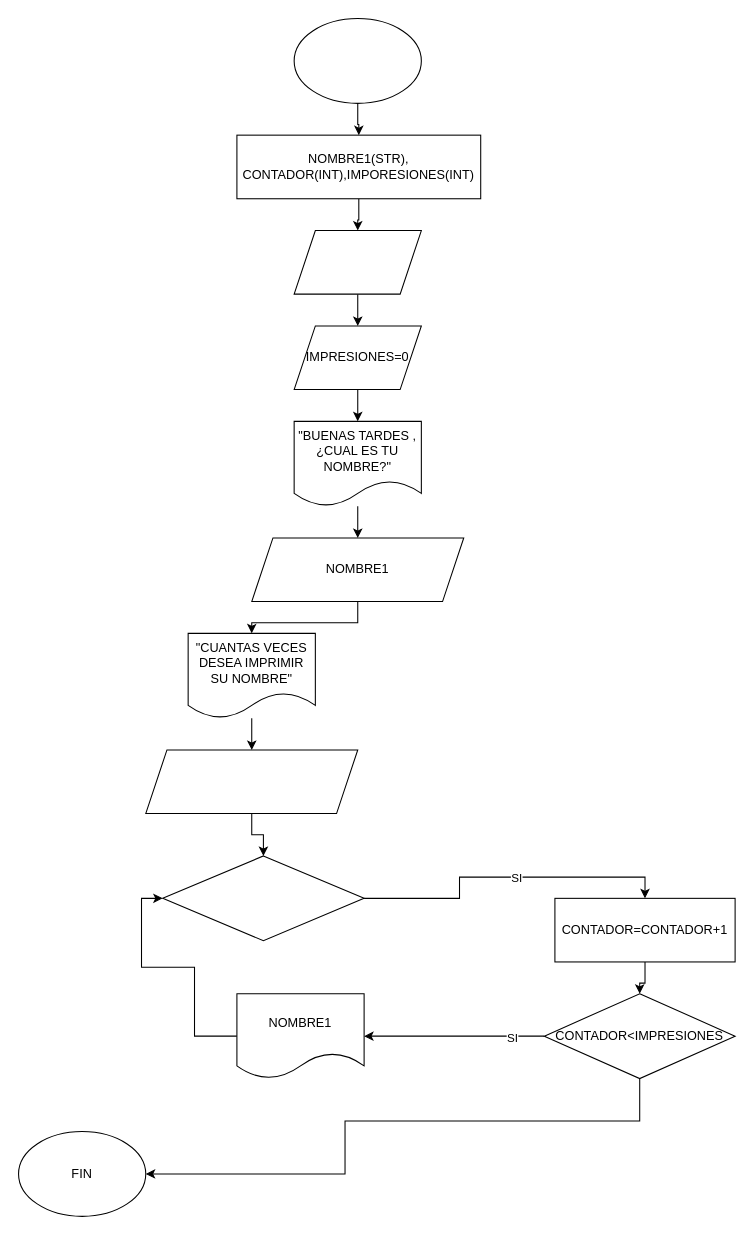
The diagram is 754 pixels wide and 1235 high, and some of its shapes have lost their labels. The shapes that lost their labels are listed below. From the top down, each one's centre as x and y in pixels, then its label:
point 357,60: INICIO
point 357,261: CONTADOR=0
point 251,781: IMPRESIONES
point 263,898: IMPRESIONES>=1
